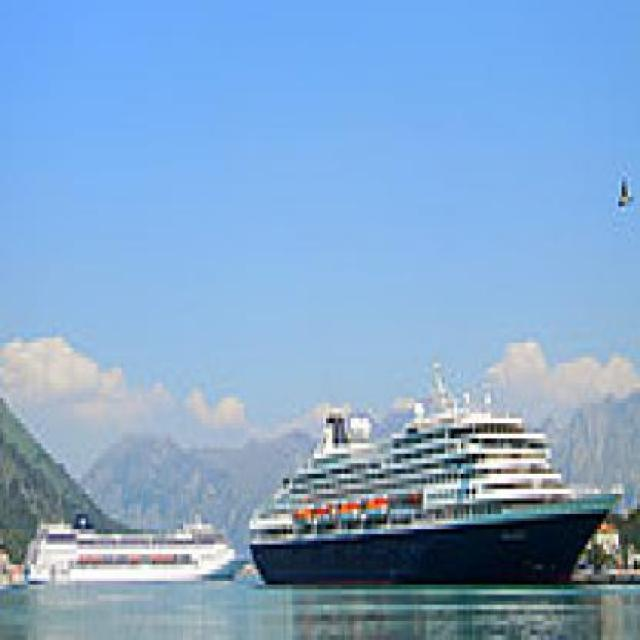cruise: (245, 359, 632, 606), (25, 495, 251, 590)
